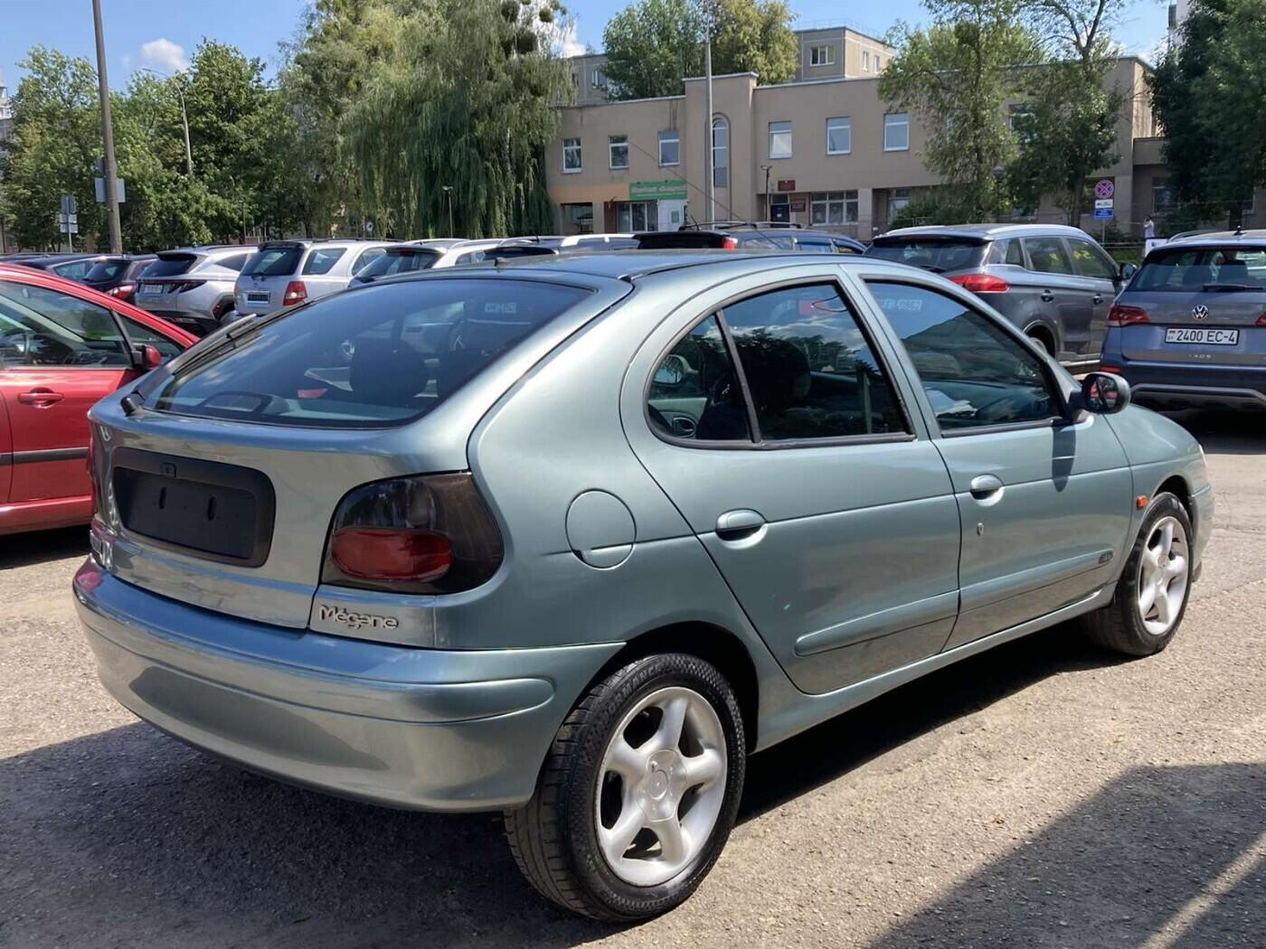Megane_1995-1999: (70, 244, 1222, 919)
